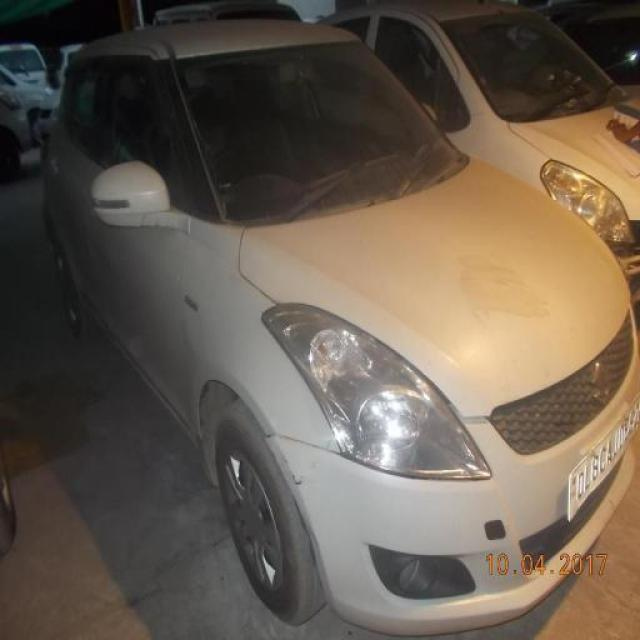scratch: (453, 255, 553, 325), (278, 450, 313, 491)
